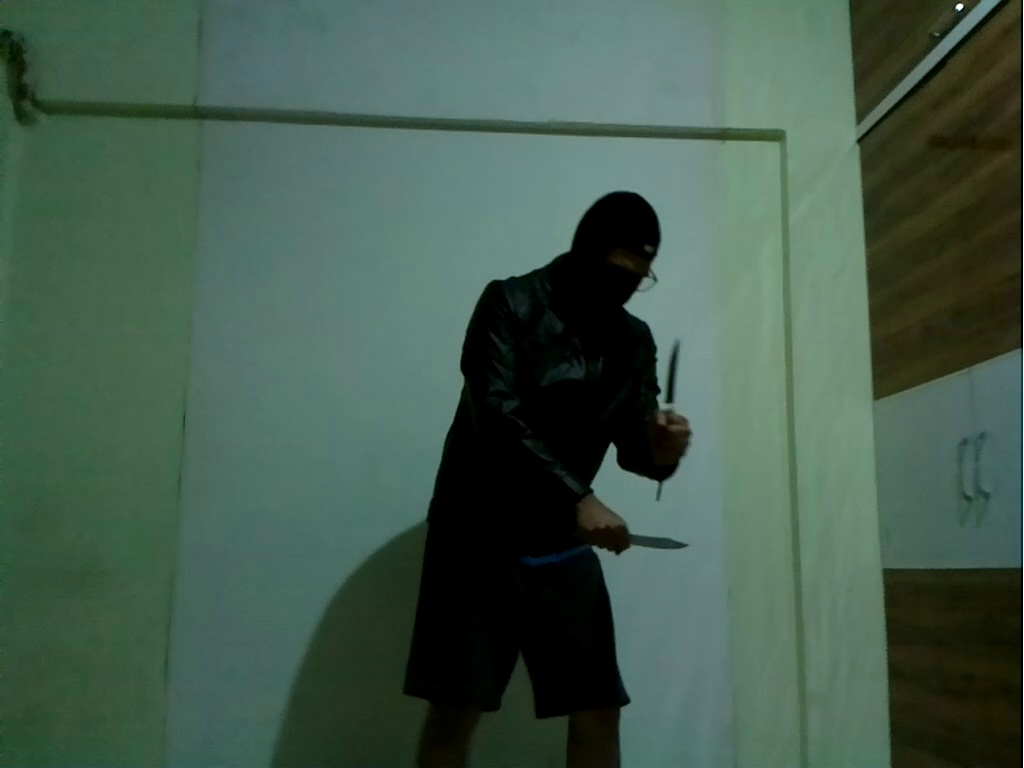knife: (623, 527, 701, 559), (662, 337, 688, 420)
